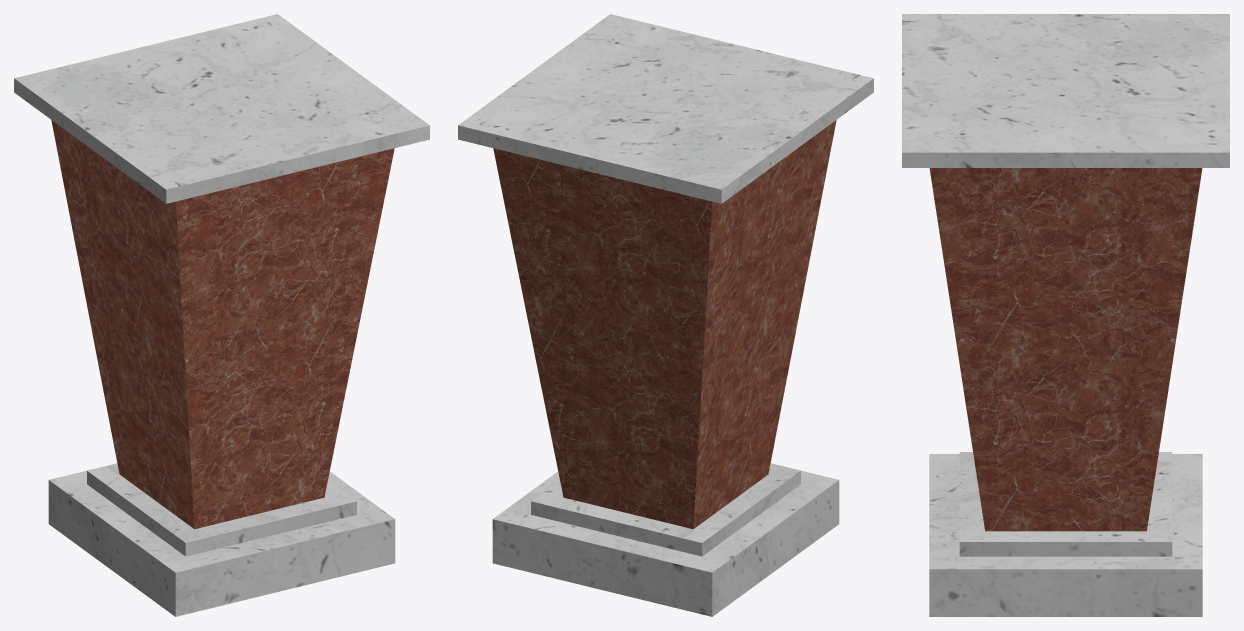
3 views of the same model, side by side, from view 1: azimuth 30°, elevation 25°; view 2: azimuth 150°, elevation 25°; view 3: azimuth 270°, elevation 25° (orthographic). The views are drawn at different scales.
Parts seen in each view (by area): view 1: Cube; view 2: Cube; view 3: Cube.
Part boxes in pixels (bbox=[...]): Cube: bbox=[14, 14, 429, 616]; Cube: bbox=[458, 14, 873, 616]; Cube: bbox=[902, 14, 1229, 616].
Size of the model in its own units: 1.04 by 1.66 by 1.04.
Materials: 2 (2 with a texture image).
